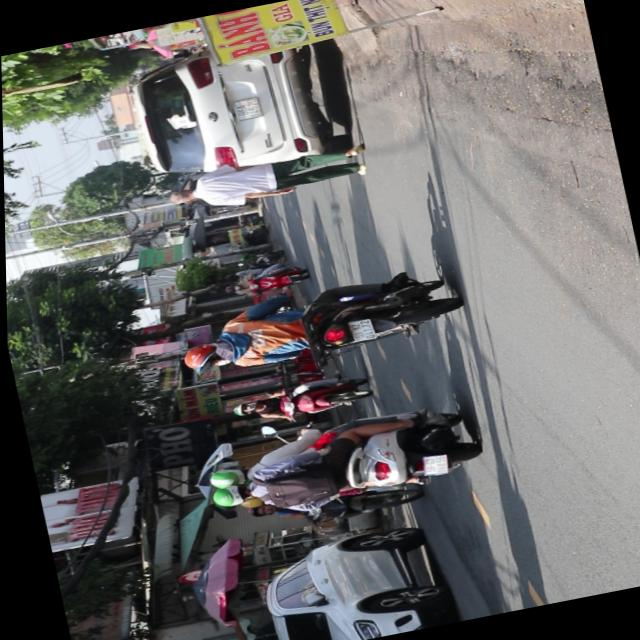helmet: (176, 342, 225, 376), (205, 482, 251, 512), (204, 466, 250, 494)
licenseplate: (192, 396, 484, 530), (166, 262, 462, 386)
nohelmet: (346, 318, 374, 343), (417, 454, 446, 478)
